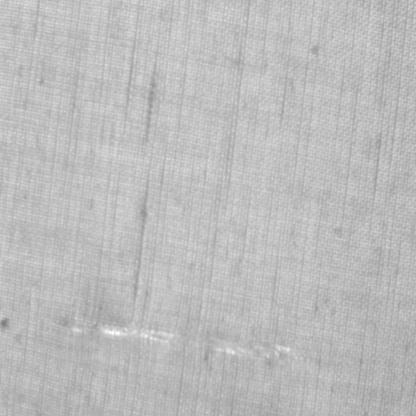thread error: (58, 310, 316, 370)
